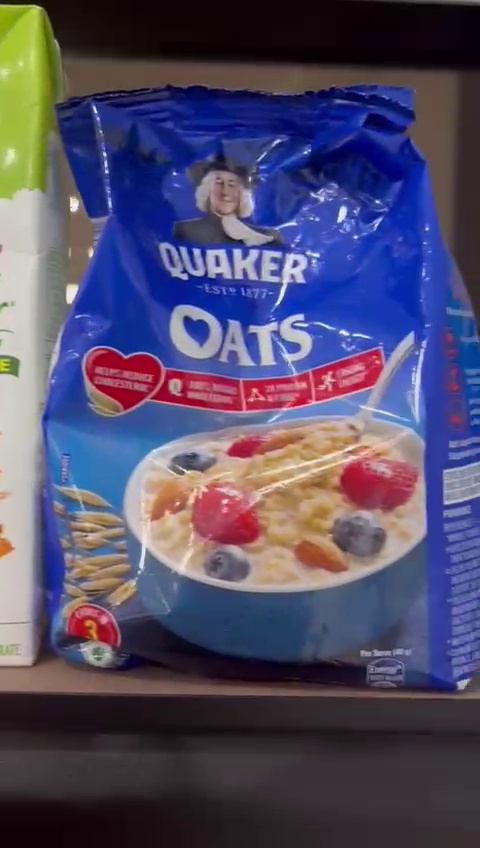Quaker Oats: (46, 93, 480, 679)
